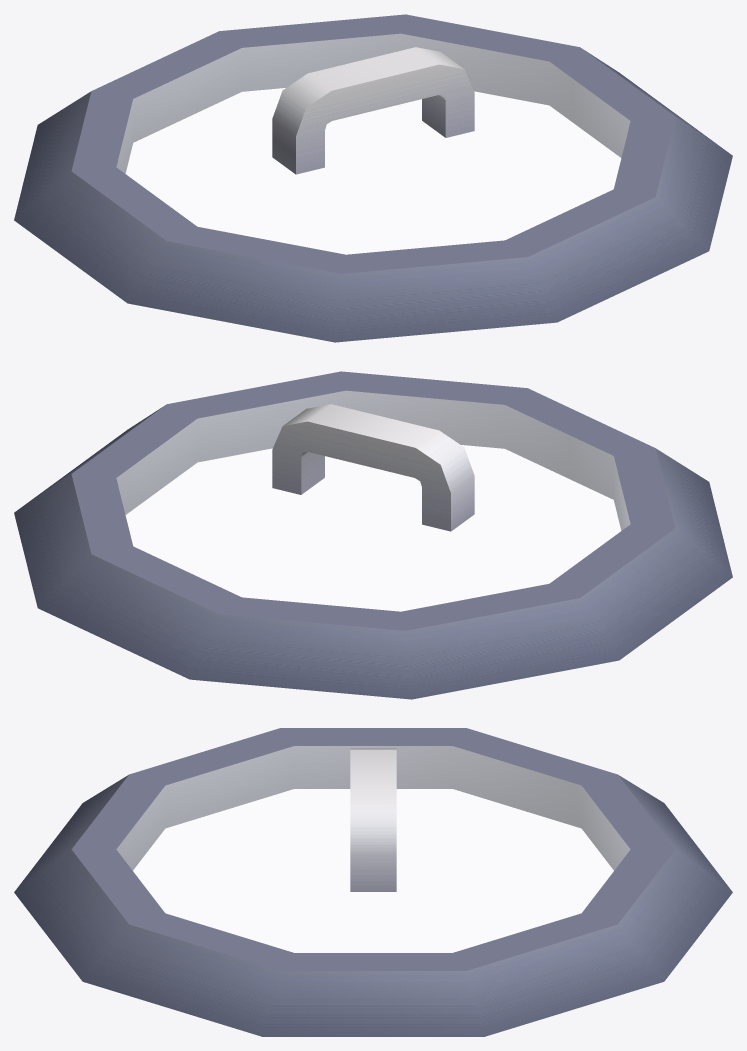
Rendered from frying-pan-lid.glb.
The picture shows the model from 3 angles, top to bottom: view 1: azimuth 30°, elevation 25°; view 2: azimuth 150°, elevation 25°; view 3: azimuth 270°, elevation 25°; orthographic projection. The views are drawn at different scales.
Visible parts, largest first — view 1: frying-pan-lid, (%ignore); view 2: frying-pan-lid, (%ignore); view 3: frying-pan-lid, (%ignore).
Boxes of the visible parts, x1=… form: frying-pan-lid: x1=14, y1=14, x2=732, y2=342; (%ignore): x1=116, y1=33, x2=630, y2=254; frying-pan-lid: x1=14, y1=371, x2=732, y2=699; (%ignore): x1=116, y1=390, x2=630, y2=611; frying-pan-lid: x1=14, y1=728, x2=732, y2=1036; (%ignore): x1=116, y1=746, x2=630, y2=952.
Bounding box in the file's own units: 0.5767 × 0.1084 × 0.6064.
Materials: 2 (1 with a texture image).
